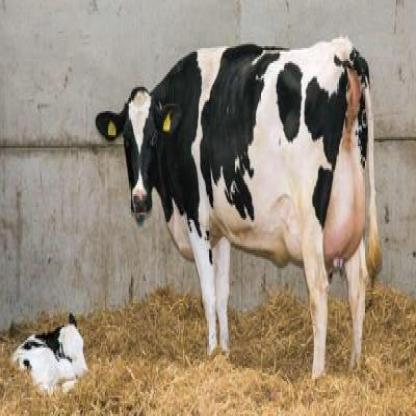lower: (136, 213, 148, 222)
mouth: (129, 183, 152, 224)
upper: (133, 193, 148, 210)
